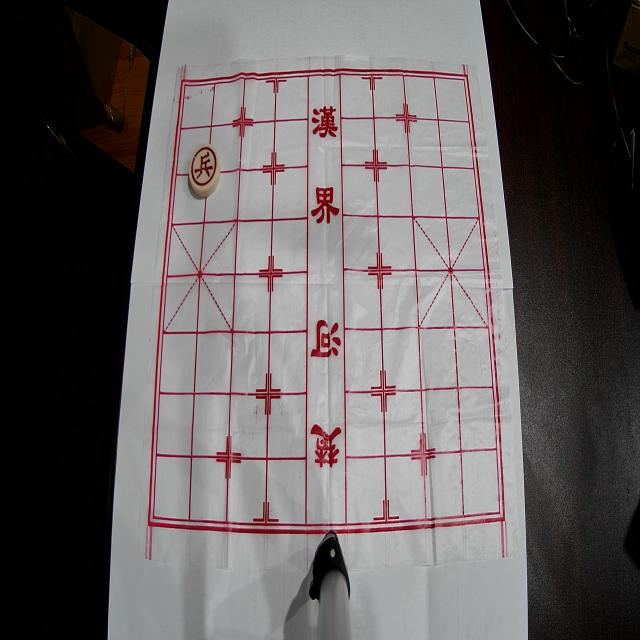red-soldier: (189, 143, 221, 197)
